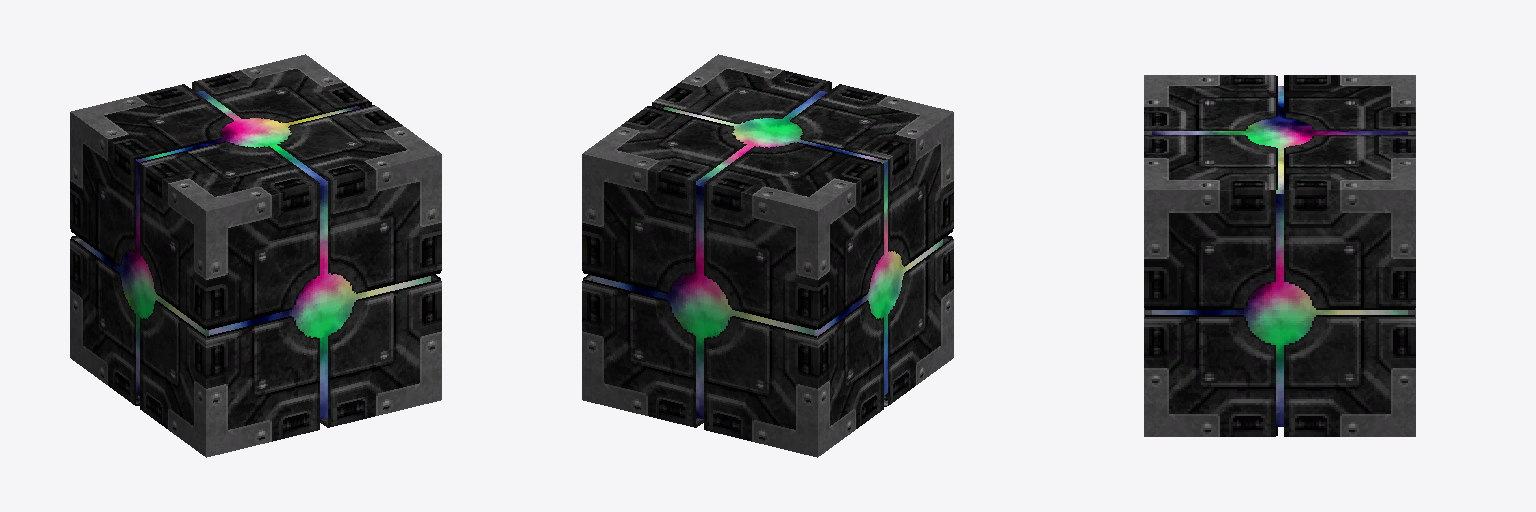
3 views of the same model, side by side, from view 1: azimuth 30°, elevation 25°; view 2: azimuth 150°, elevation 25°; view 3: azimuth 270°, elevation 25° (orthographic).
Parts seen in each view (by area): view 1: polygon0, polygon1; view 2: polygon0, polygon1; view 3: polygon0, polygon1.
Part boxes in pixels (x1,y1,x2,y2): polygon0: (70,54,441,457); polygon1: (81,91,430,418); polygon0: (582,54,953,457); polygon1: (593,91,942,418); polygon0: (1144,75,1415,436); polygon1: (1152,86,1407,426).
Size of the model in its own units: 20 by 20 by 20.
Materials: 2 (2 with a texture image).